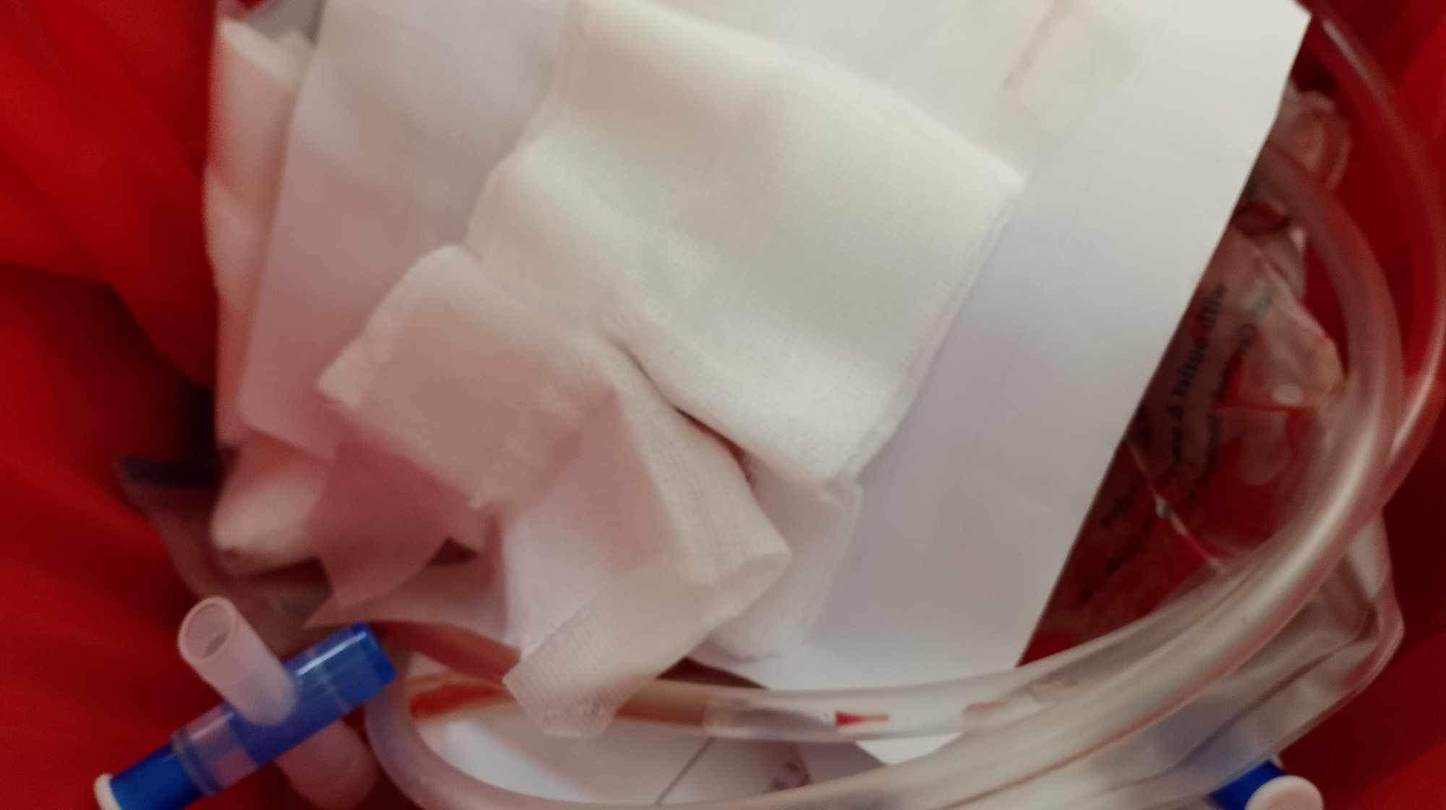General: (98, 3, 1436, 806), (1006, 4, 1439, 805)
Sharps: (92, 615, 398, 808)
